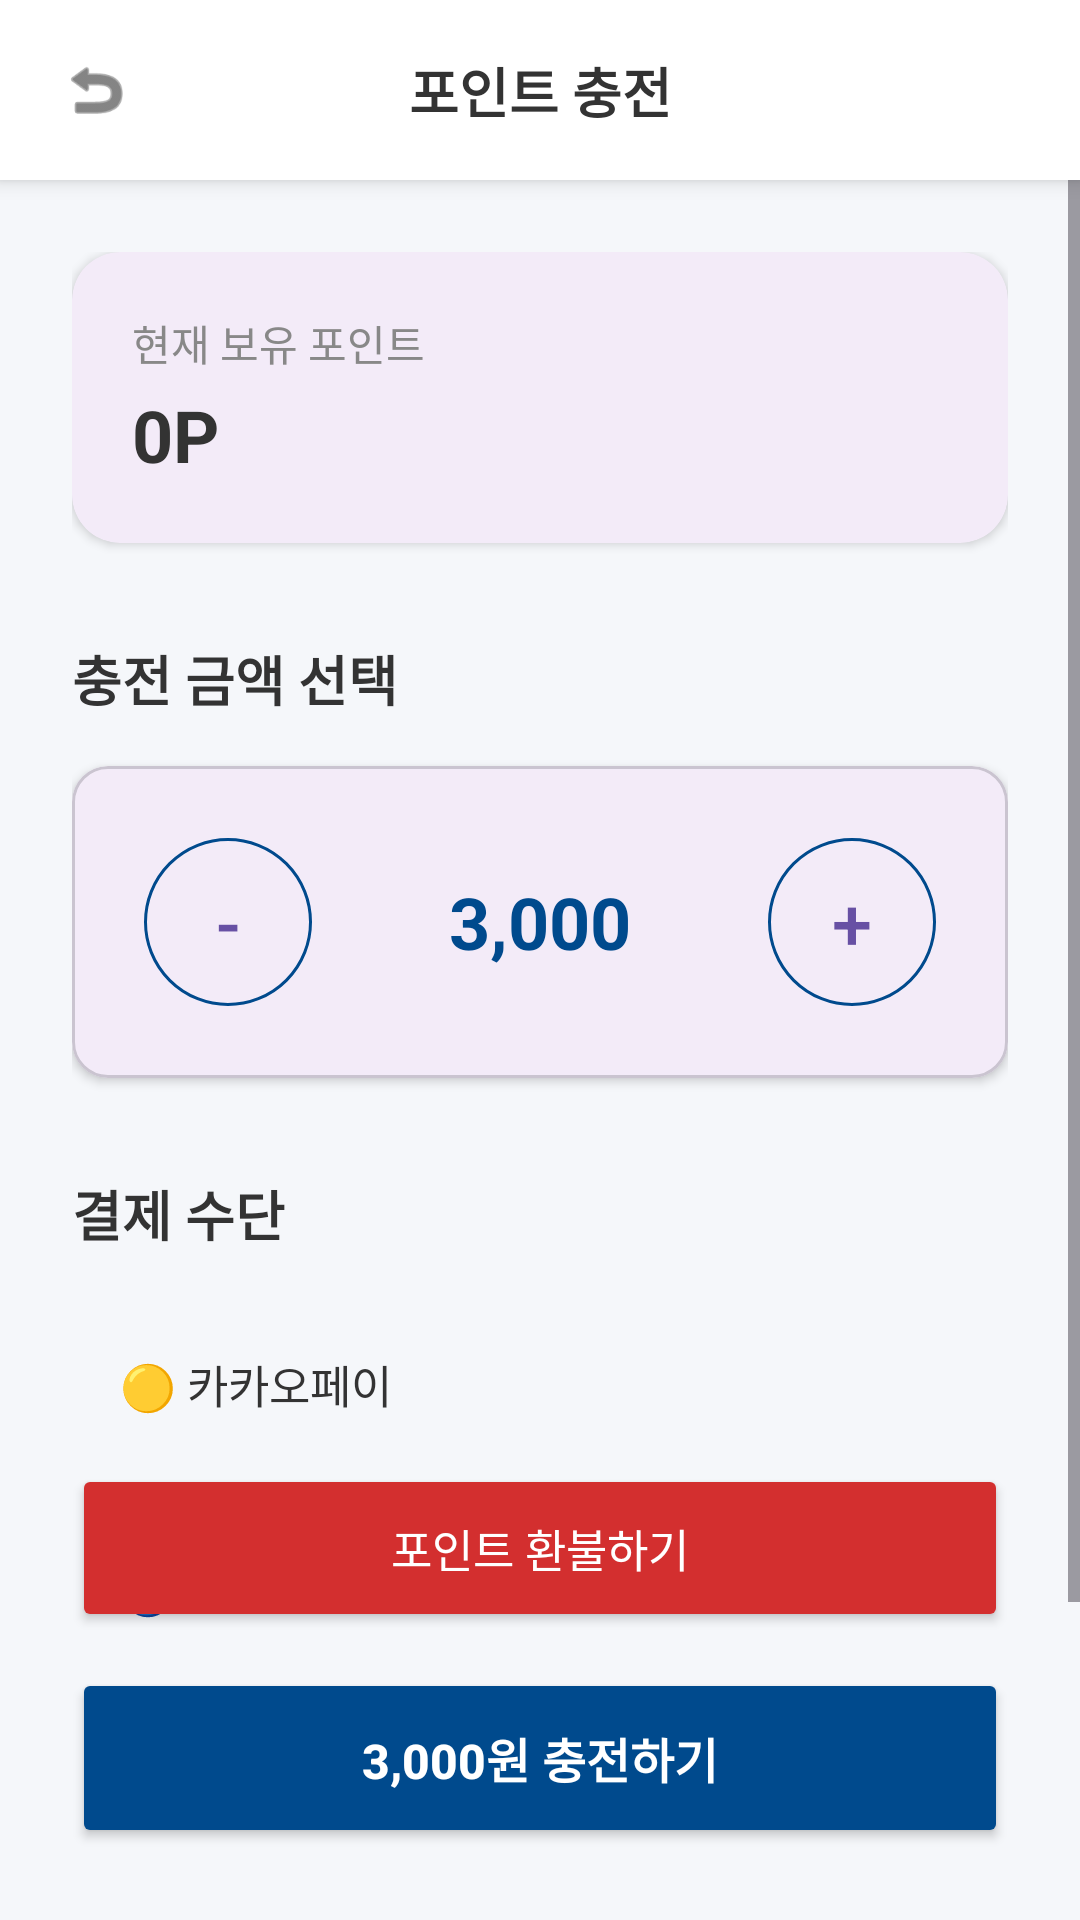

Icon click points for this 1080*1920 phone screenshot, format (x,y):
revert: (97,90)
